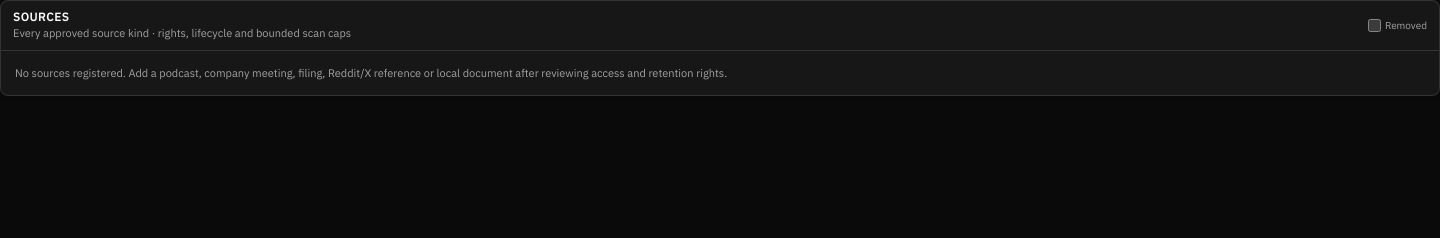
it: SourceRegistry › shows removed sources only behind the toggle
Check: the text "Synthetic show" is not shown
Click the checkbox with test id "show-removed": (1374, 25) [1368,19,1381,32]
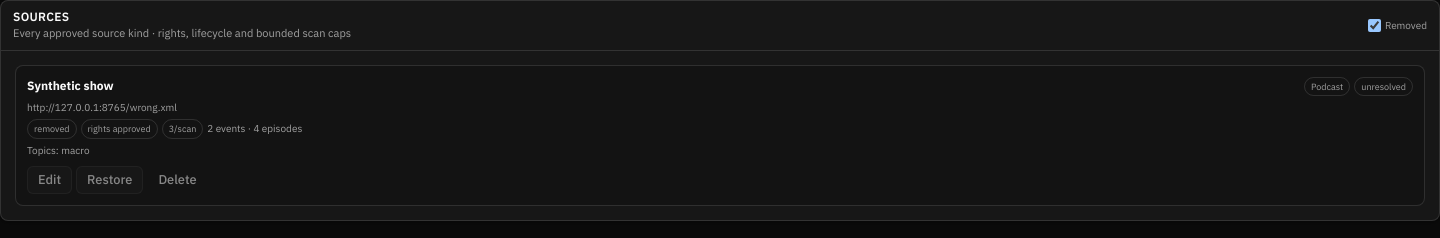
Check: the text "Synthetic show" is shown, box [27,78,114,94]
Check: the button "Restore" is shown, box [76,166,143,194]
